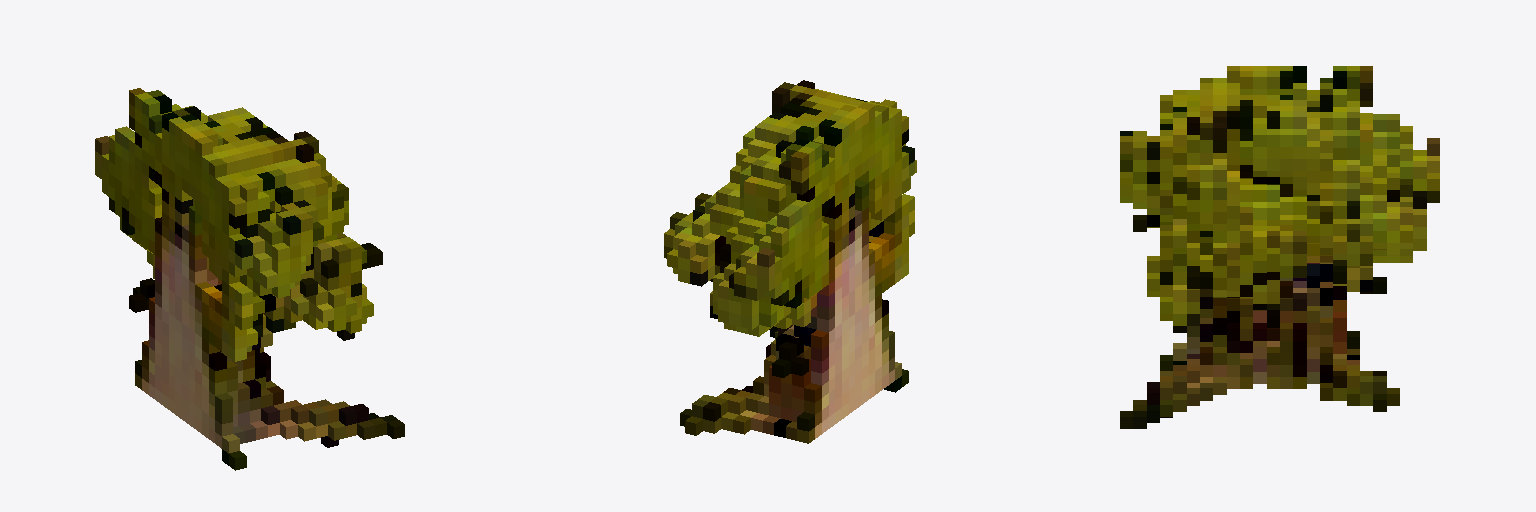
File: regen_iter_0.obj
The picture shows the model from 3 angles: view 1: azimuth 30°, elevation 25°; view 2: azimuth 150°, elevation 25°; view 3: azimuth 270°, elevation 25°; orthographic projection.
Parts seen in each view (by area): view 1: regen_iter_0; view 2: regen_iter_0; view 3: regen_iter_0.
Part boxes in pixels (x1,y1,x2,y2): regen_iter_0: (95, 88, 404, 470); regen_iter_0: (664, 80, 916, 443); regen_iter_0: (1120, 66, 1439, 428).
Size of the model in its own units: 1.4 by 2.5 by 2.4.